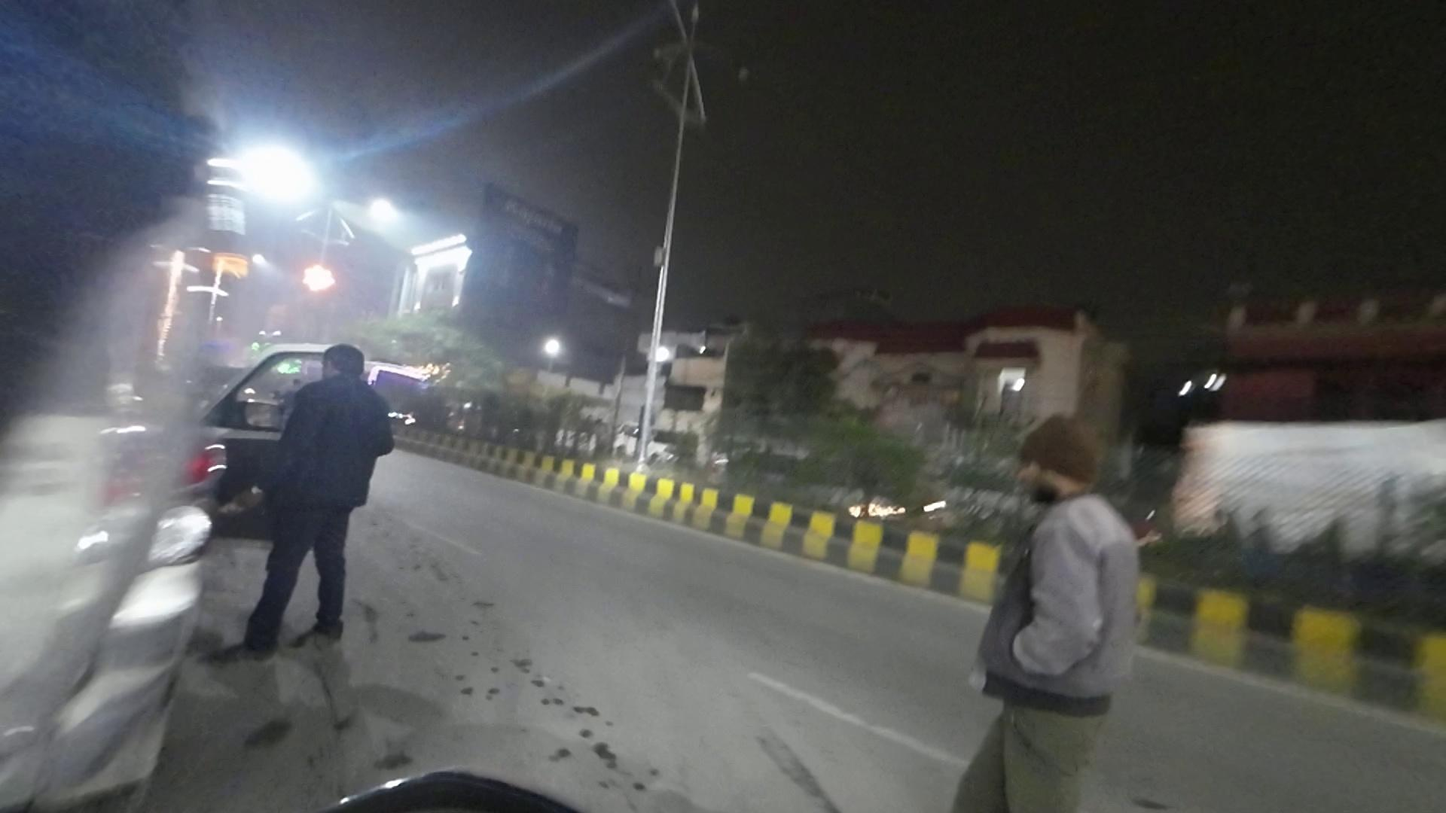streetlight: (697, 33, 755, 86)
